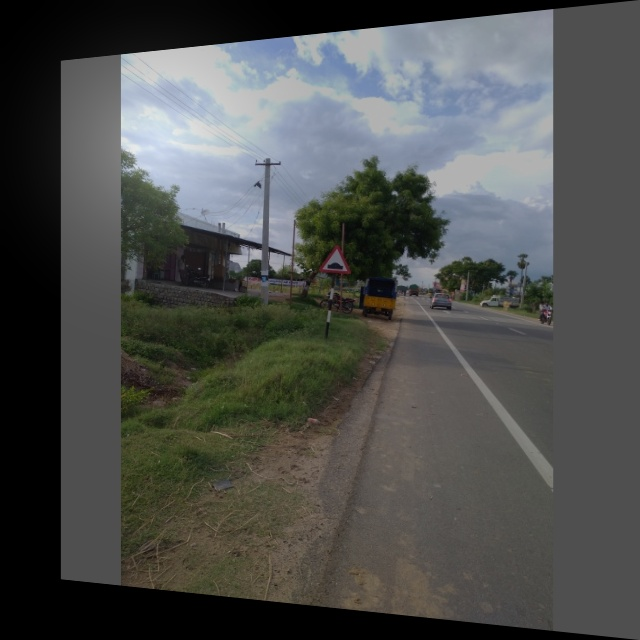Hump_or_Rough_Road: (317, 242, 349, 277)
